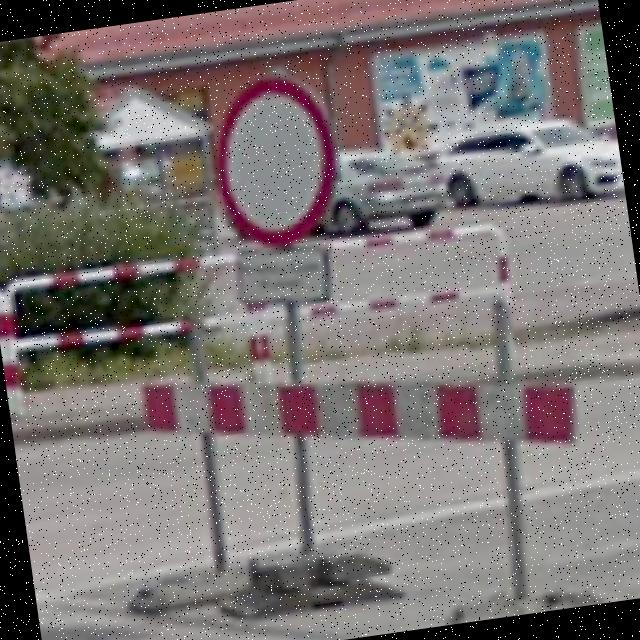Zakaz ruchu w obu kierunkach: (203, 66, 349, 254)
